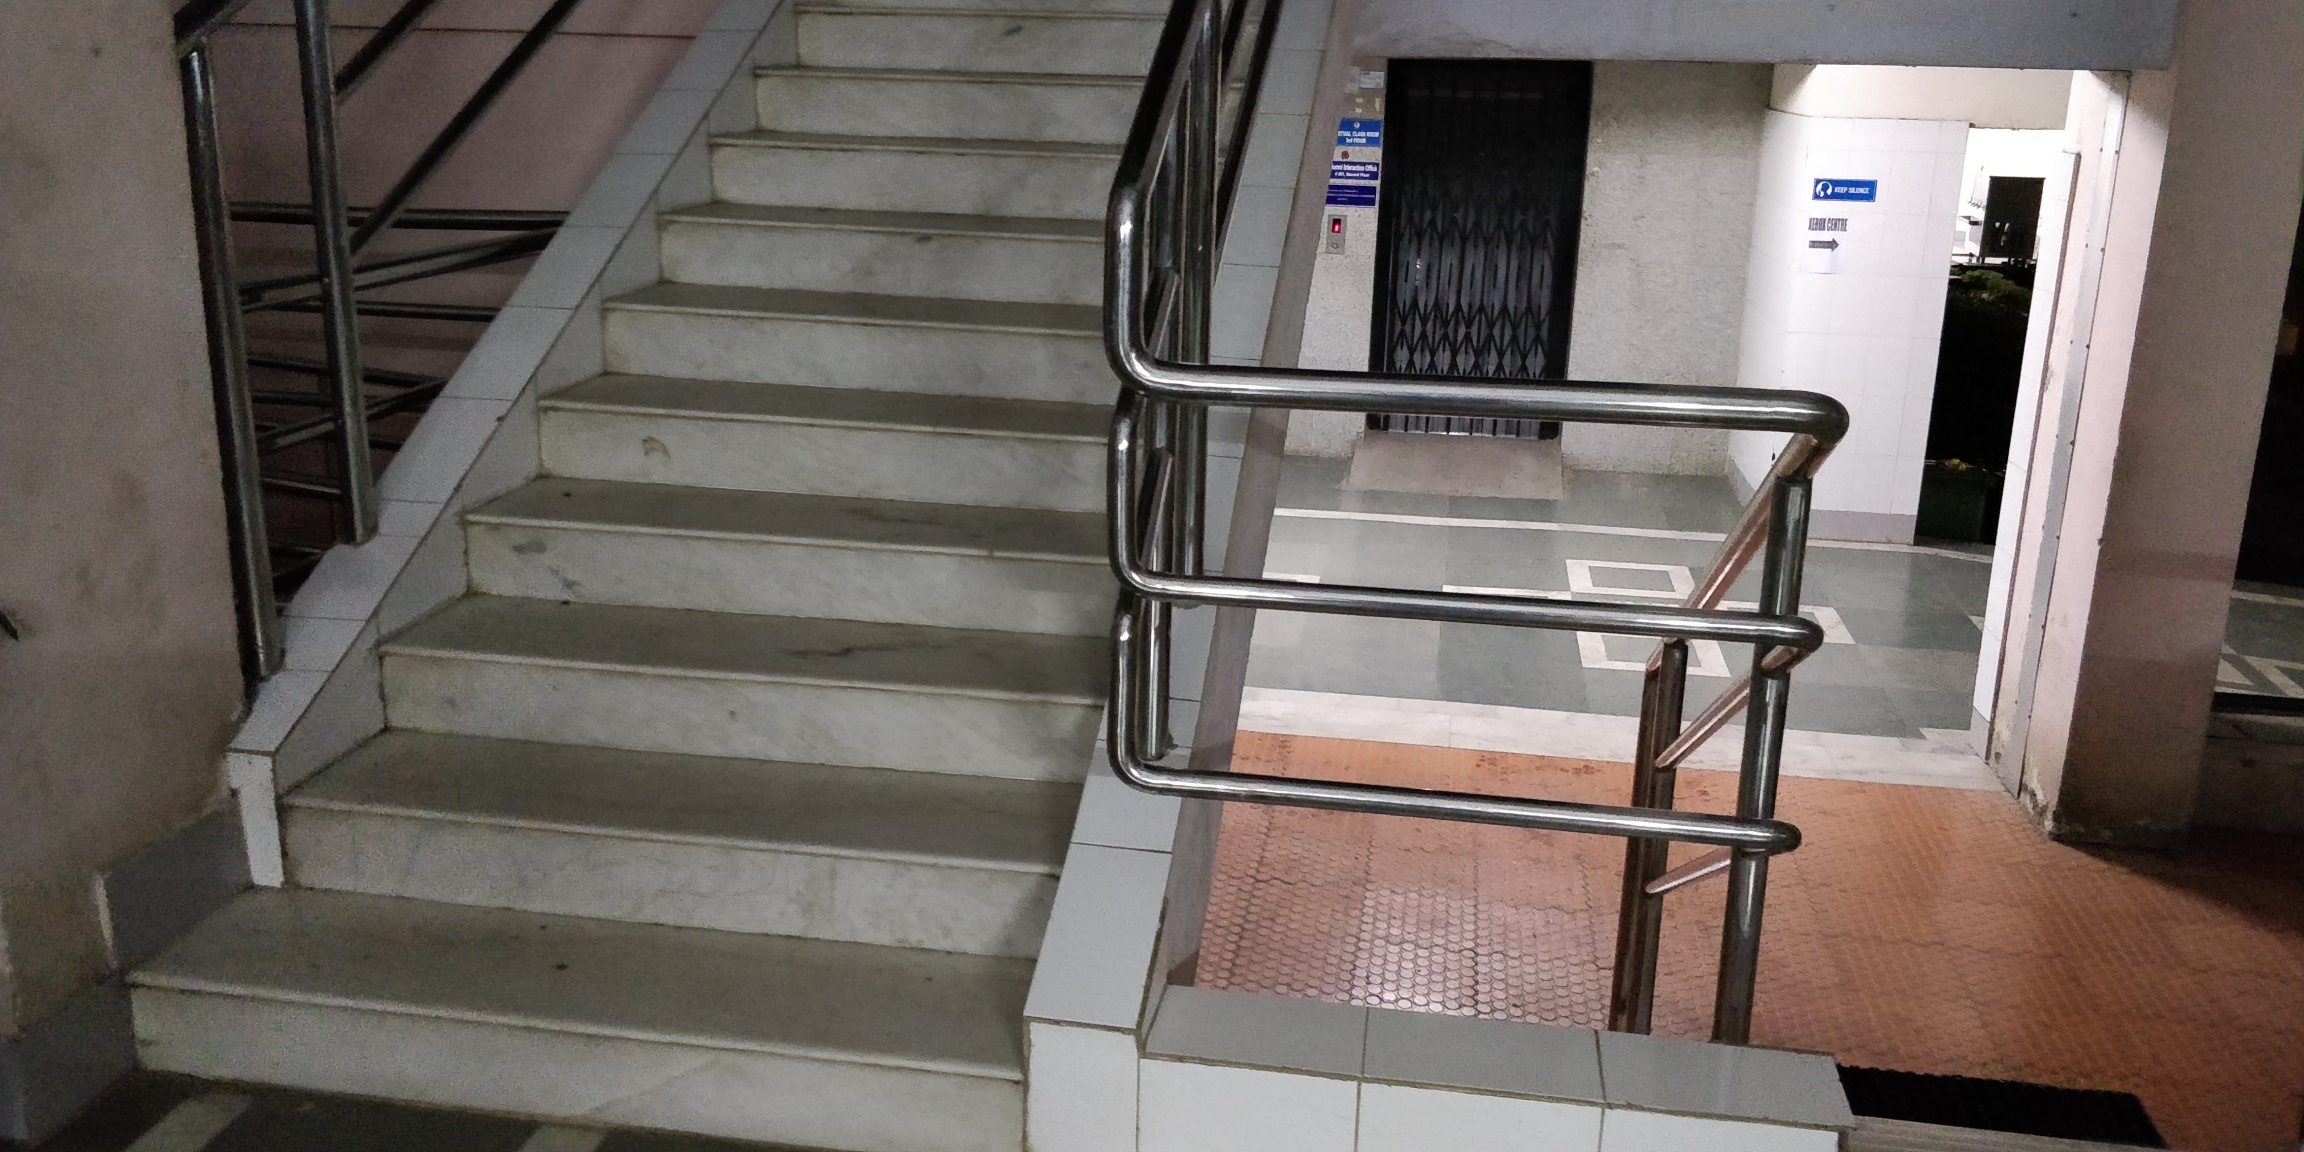stairs_up: (123, 9, 1306, 1130)
